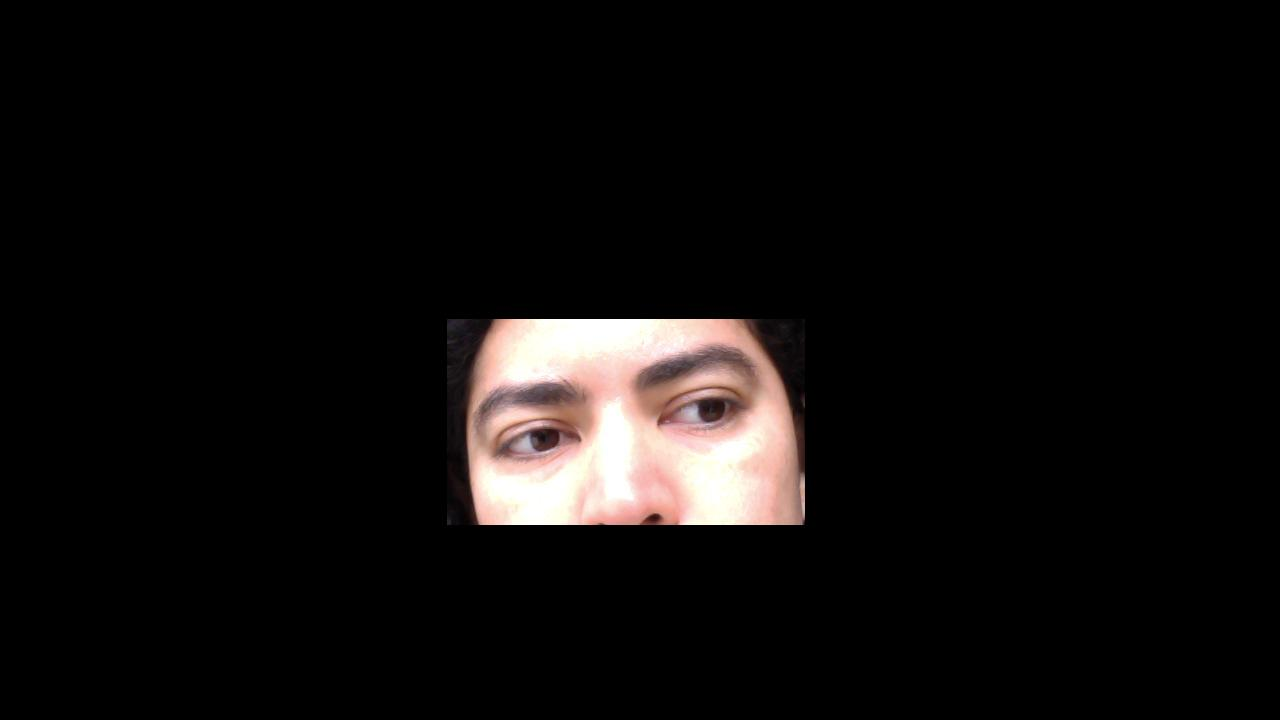eye: (695, 394, 727, 425), (527, 425, 561, 452)
